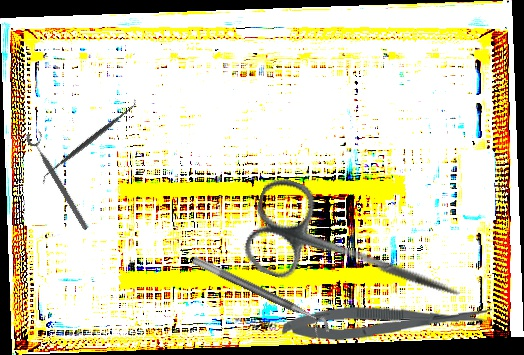Fixation Ring: (185, 254, 334, 343), (23, 127, 97, 232)
Iris Scissors: (237, 172, 477, 336)
Micro Scissor: (281, 302, 493, 343)
Spatula Surgical: (36, 98, 142, 185)
